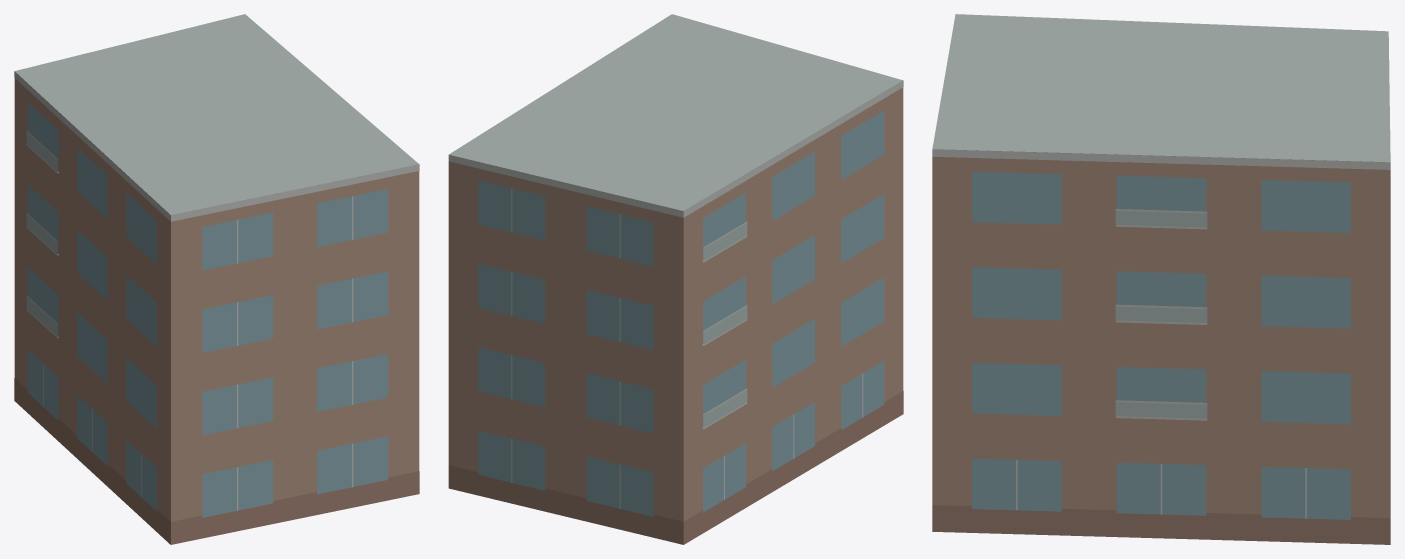
Rendered from survey-upis-32651894.glb.
The picture shows the model from 3 angles, left to right: view 1: azimuth 30°, elevation 25°; view 2: azimuth 150°, elevation 25°; view 3: azimuth 270°, elevation 25°; orthographic projection. The views are drawn at different scales.
Visible parts, largest first — view 1: survey-upis-32651894.tmp; view 2: survey-upis-32651894.tmp; view 3: survey-upis-32651894.tmp.
Part boxes in pixels (<box>): survey-upis-32651894.tmp: <box>14,14,419,544</box>; survey-upis-32651894.tmp: <box>448,14,903,544</box>; survey-upis-32651894.tmp: <box>932,14,1390,544</box>.
Size of the model in its own units: 10.15 by 12.2 by 13.26.
